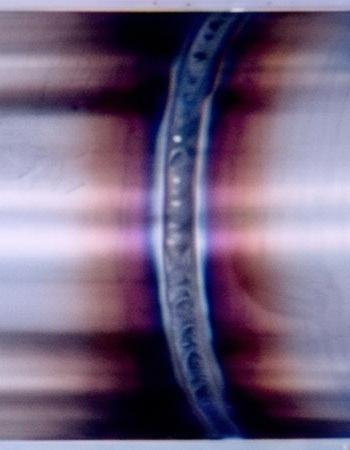soldas: (83, 2, 318, 448)
